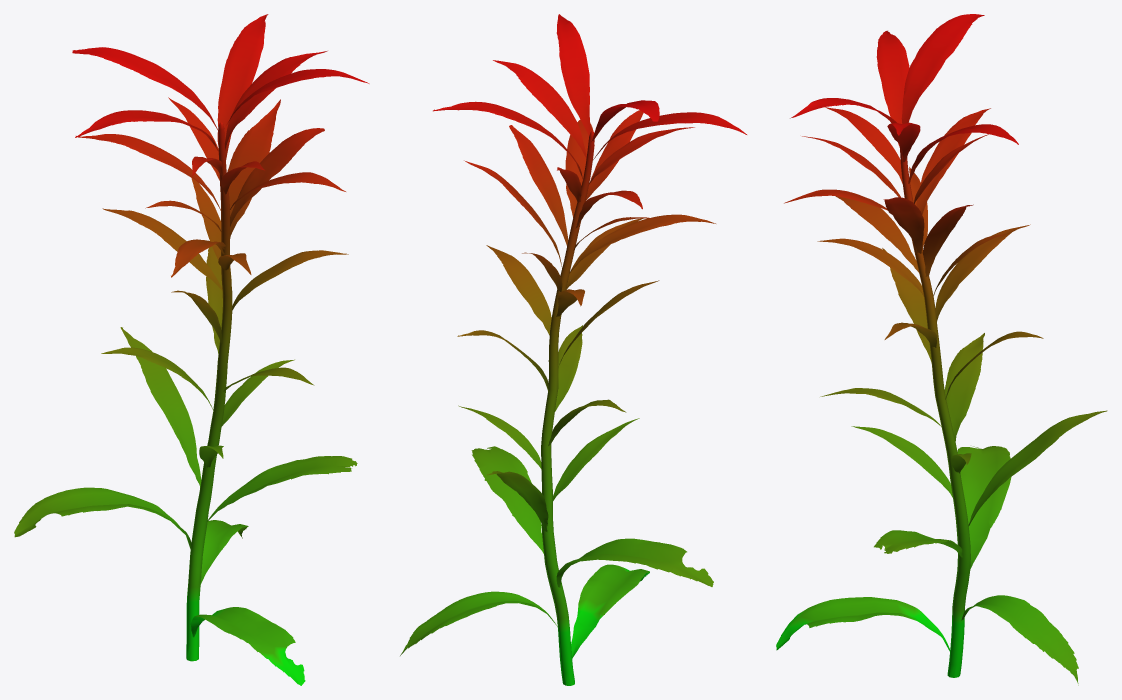
File: Goldenrods_LOD0_Var8.fbx
3 views of the same model, side by side, from view 1: azimuth 30°, elevation 25°; view 2: azimuth 150°, elevation 25°; view 3: azimuth 270°, elevation 25° (orthographic). The views are drawn at different scales.
Parts seen in each view (by area): view 1: _qnkz_Var8_LOD0; view 2: _qnkz_Var8_LOD0; view 3: _qnkz_Var8_LOD0.
Boxes of the visible parts, x1,y1,x2,y2 form: _qnkz_Var8_LOD0: (14,14,369,685); _qnkz_Var8_LOD0: (400,14,746,685); _qnkz_Var8_LOD0: (776,14,1107,685).
Bounding box in the file's own units: 31.42 × 63.48 × 31.13.
